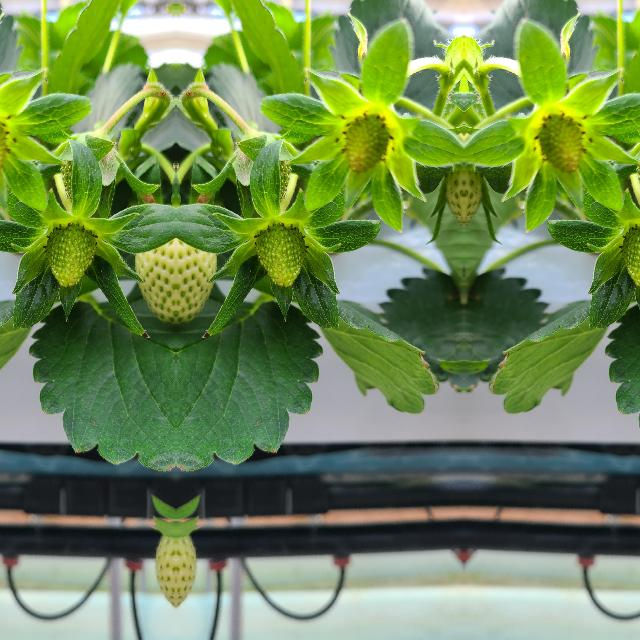Health_25: (340, 109, 390, 178), (536, 109, 586, 178), (254, 224, 306, 286), (44, 224, 96, 286), (620, 224, 640, 285)
